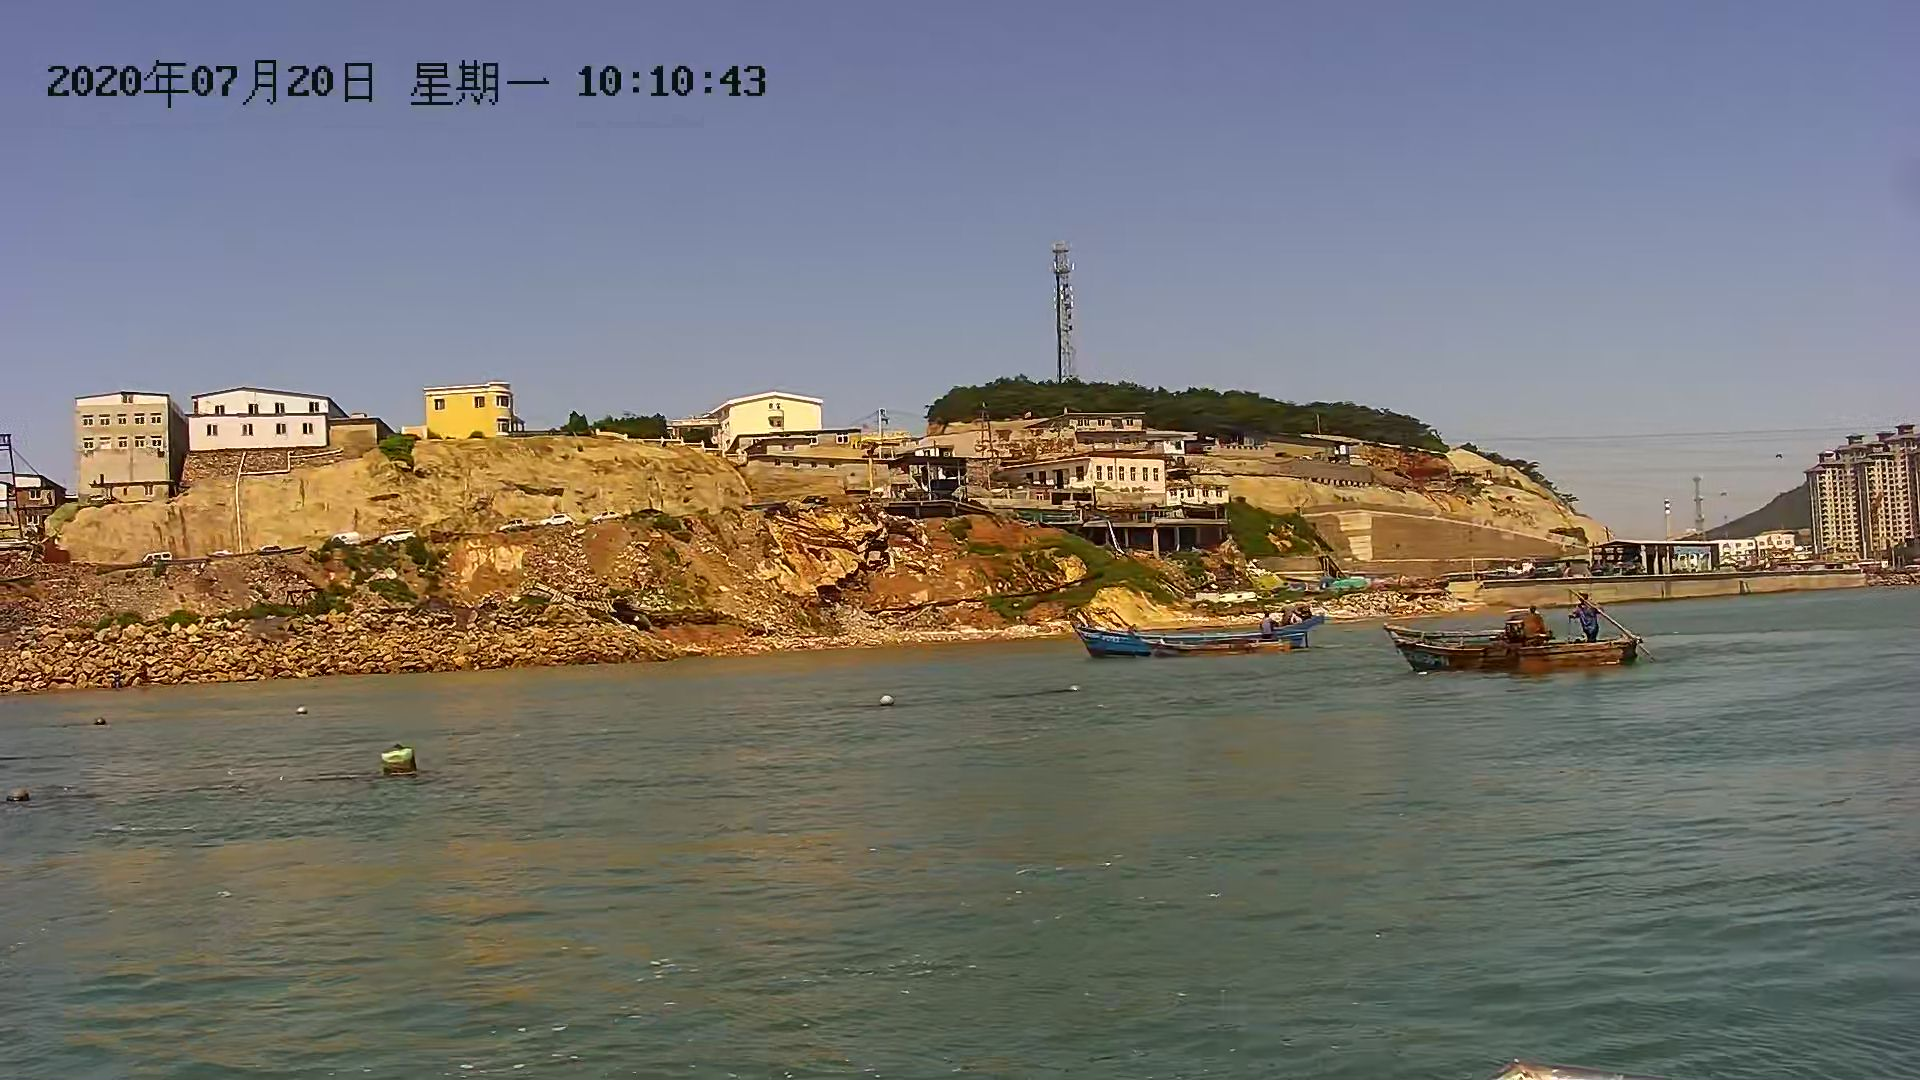boat: (1377, 617, 1642, 678), (1073, 618, 1324, 665)
person: (1571, 582, 1601, 651)
rubbish: (374, 746, 421, 787)
